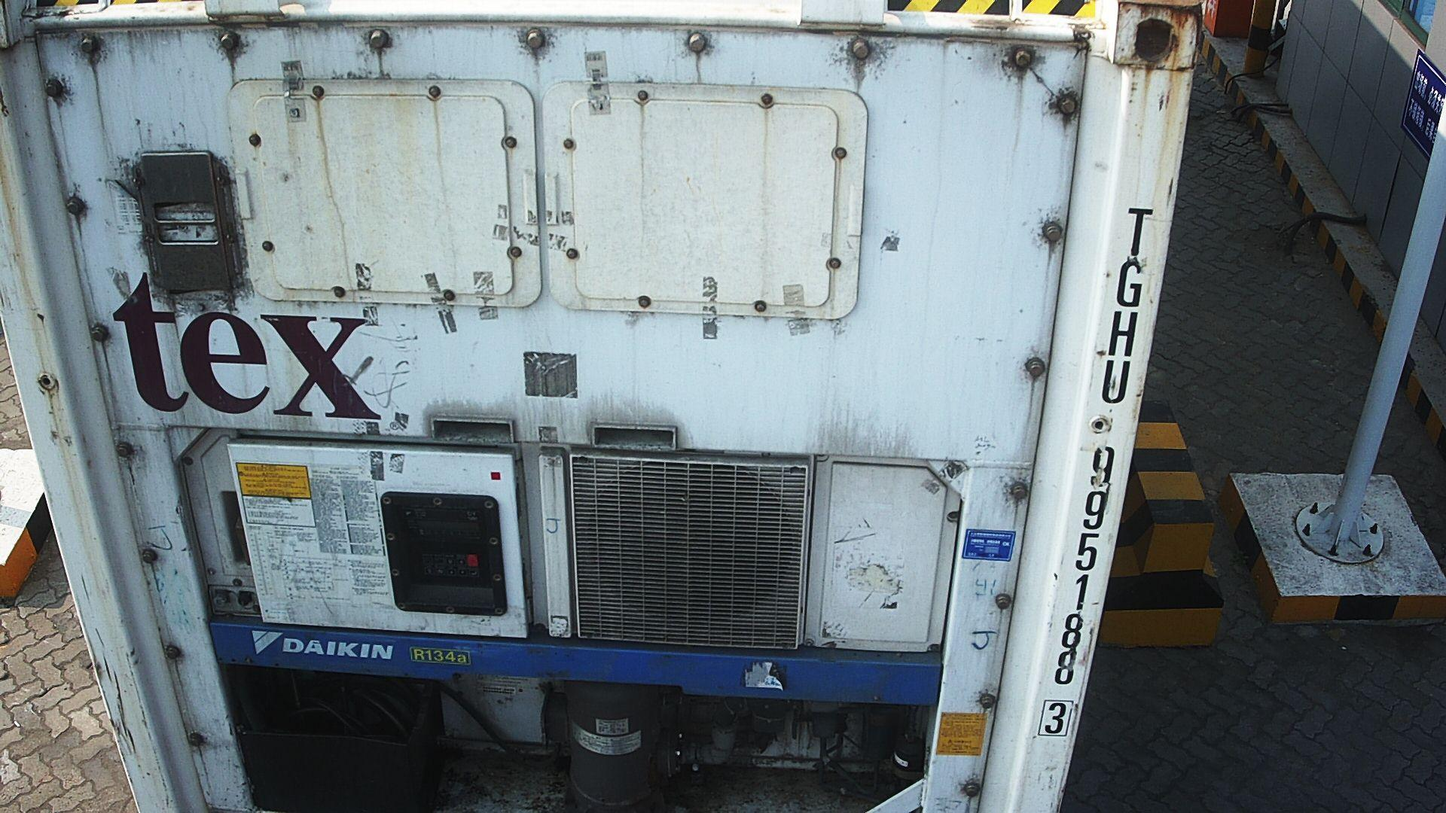container-numbers: (1032, 202, 1160, 742)
